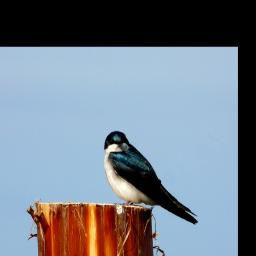Swallow: (103, 130, 200, 227)
